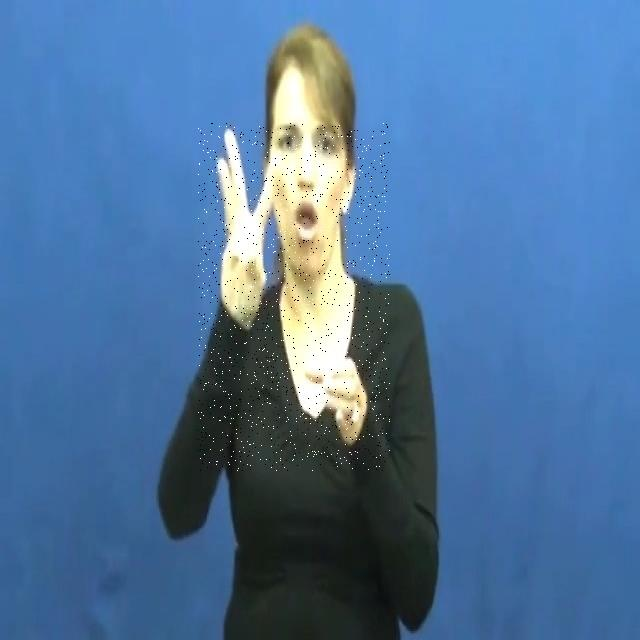straw: (198, 123, 390, 471)
